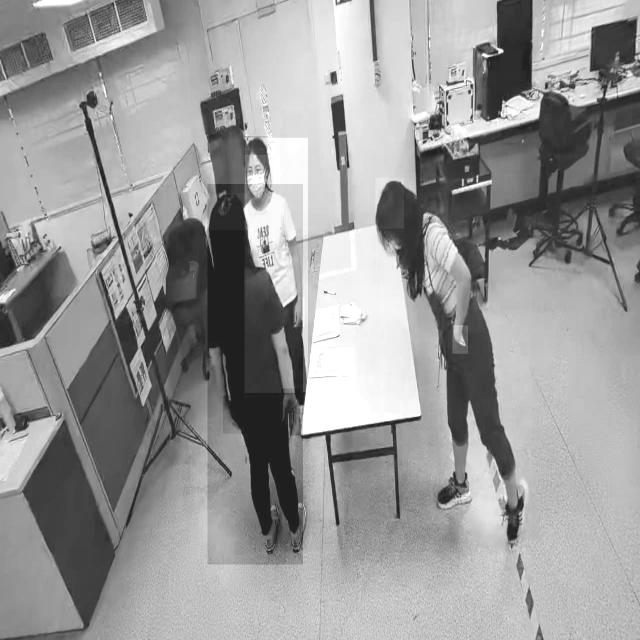face_mask: (245, 148, 265, 200)
hand_noglove: (281, 388, 301, 436), (222, 396, 245, 434), (452, 325, 468, 355), (292, 297, 304, 328)
head_nohelmet: (208, 193, 248, 231), (375, 178, 404, 229), (244, 136, 268, 156)
person: (380, 172, 532, 550), (207, 184, 303, 565), (244, 138, 308, 393)
shoes: (502, 479, 530, 550), (433, 467, 475, 514), (286, 494, 310, 555), (260, 498, 280, 556)
